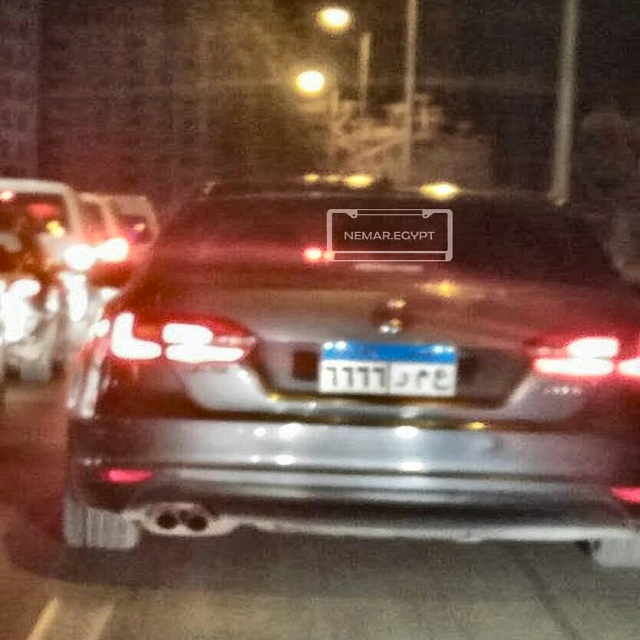License Plate: (315, 338, 463, 400)
